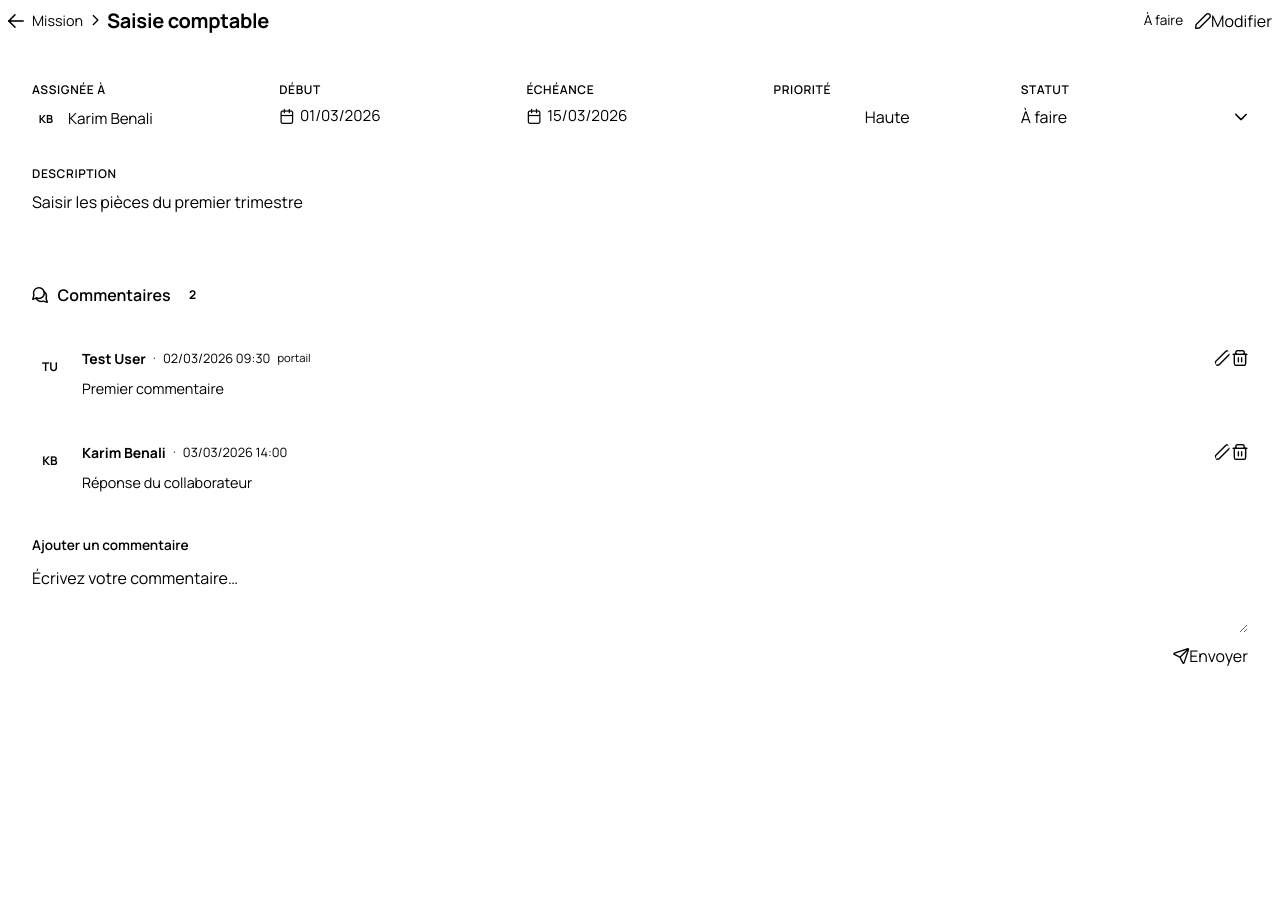
Test: TacheDetailPage — commentaires › envoie un nouveau commentaire et reflète la transition a_faire → en_cours
In the text box with id "nouveau-commentaire": (640, 600) 32,567 -> 1248,633, type "Nouveau message"
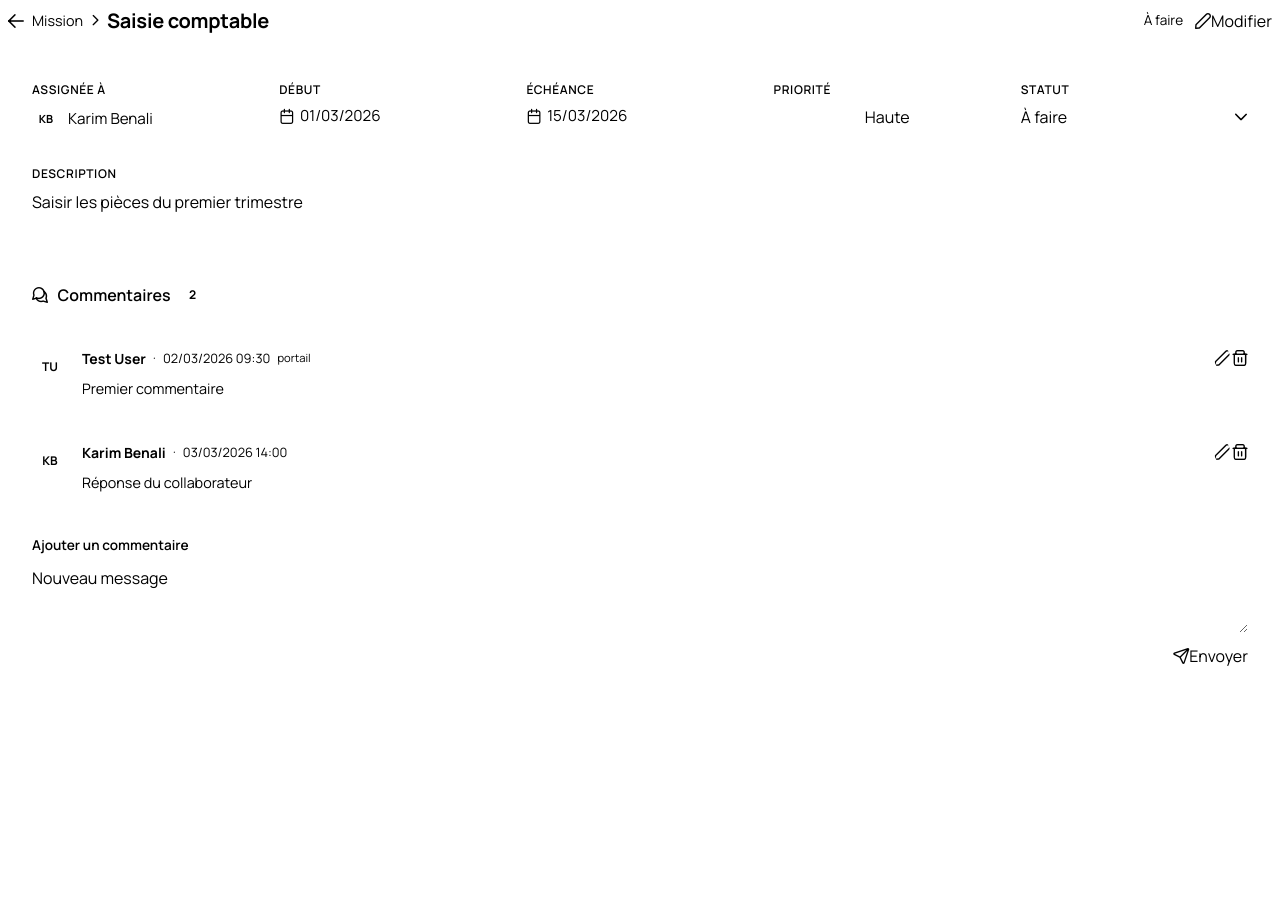
Submit the form with class "nouveau-commentaire-form", box 8,515 -> 1272,687
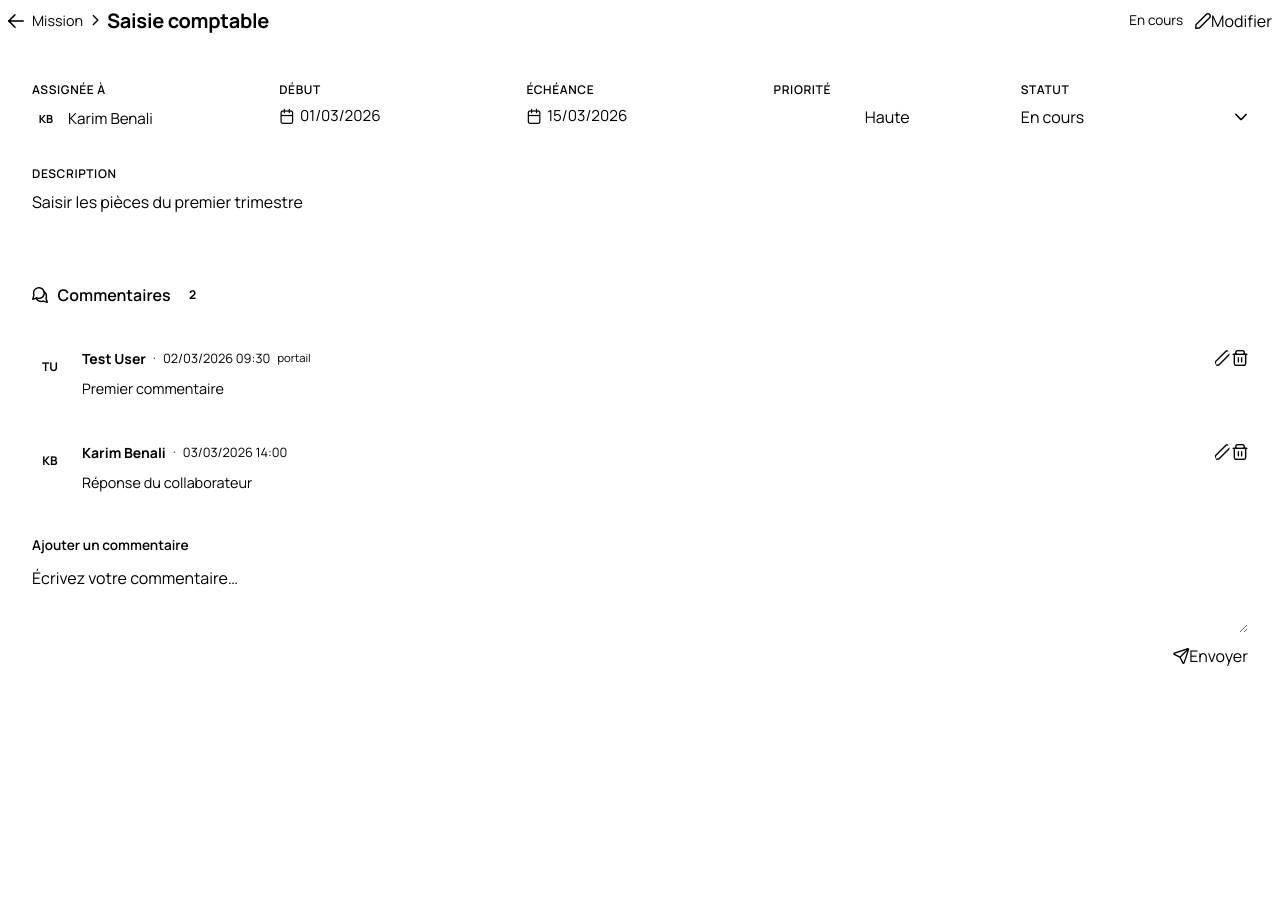
Result: the text box with id "nouveau-commentaire" is empty at 32,567 -> 1248,633
Result: the text "En cours" is shown at 1129,10 -> 1183,31
